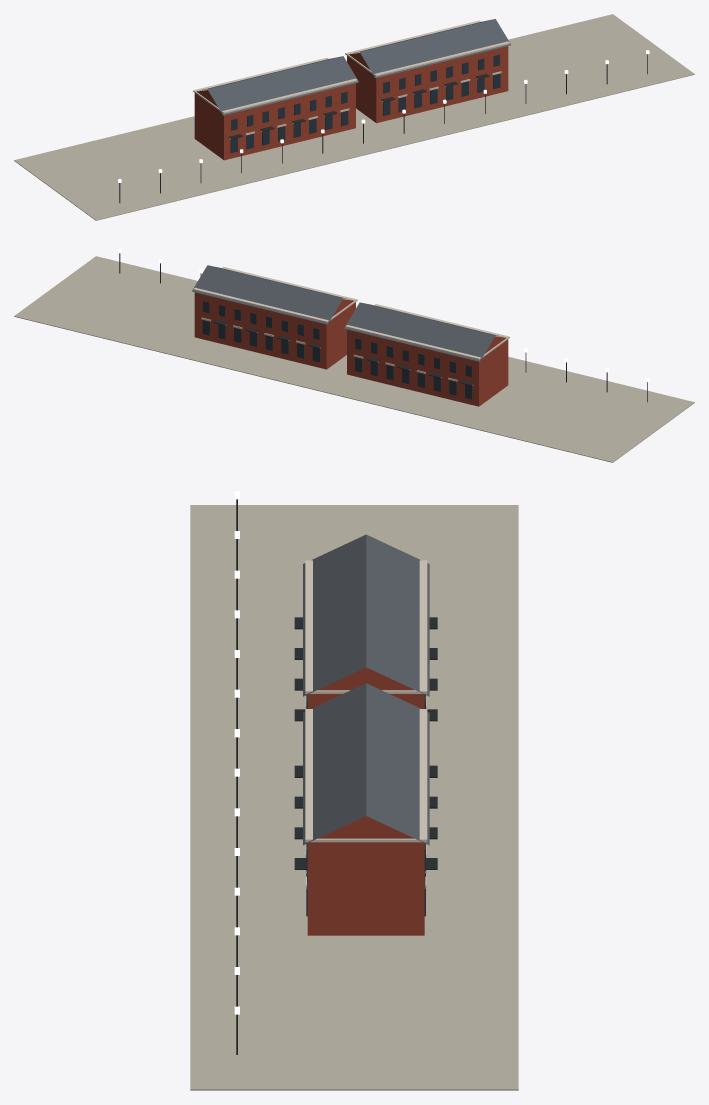
File: red_brick.glb
3 views of the same model, one above another, from view 1: azimuth 30°, elevation 25°; view 2: azimuth 150°, elevation 25°; view 3: azimuth 270°, elevation 25° (orthographic). The views are drawn at different scales.
Visible parts, largest first — view 1: RedBrick_static; view 2: RedBrick_static; view 3: RedBrick_static.
Part boxes in pixels (left/top/right/bottom): RedBrick_static: left=14, top=14, right=694, bottom=220; RedBrick_static: left=14, top=249, right=694, bottom=462; RedBrick_static: left=190, top=491, right=518, bottom=1090.
Bounding box in the file's own units: 118 × 11.6 × 28.
